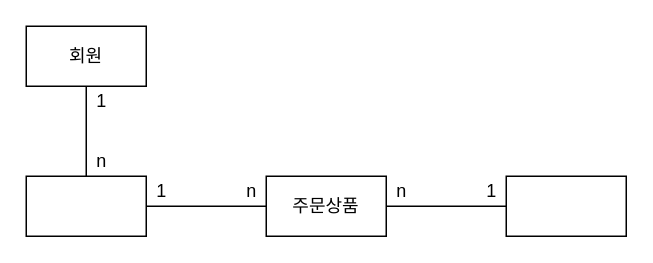
Some shapes in this 653 by 263 pixel diagram are drawn without their labels. The box of each missing label's shape, as (x1, y1, x2, y2) in pixels:
상품: (505, 175, 626, 236)
주문: (25, 175, 146, 236)
